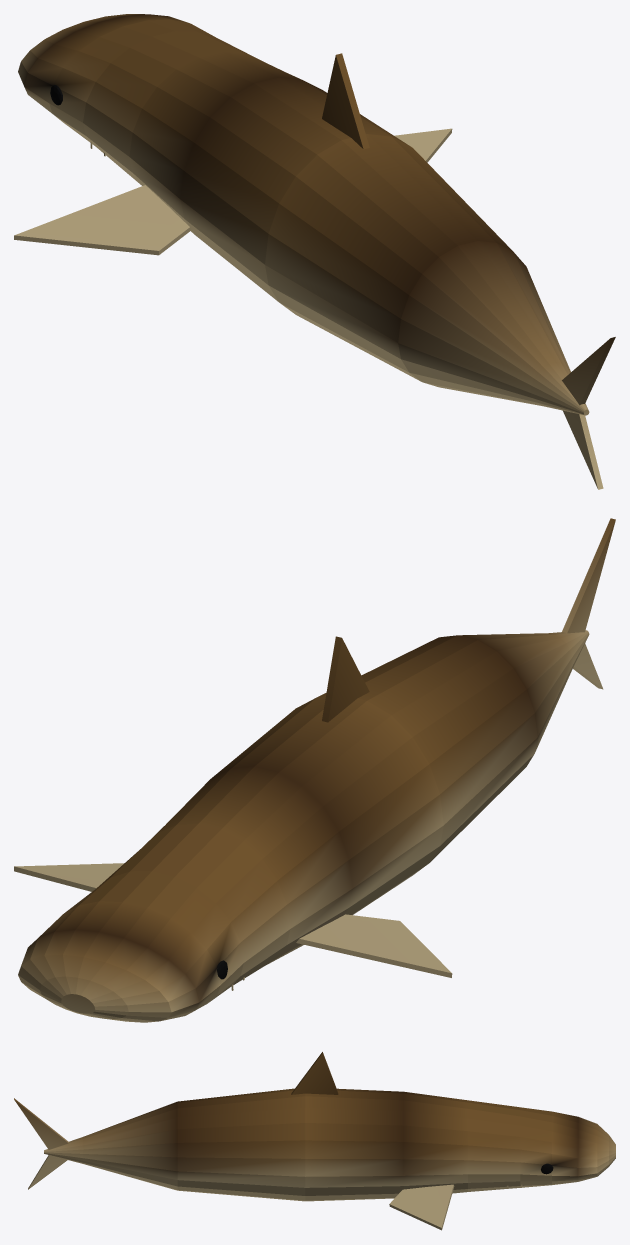
Rendered from tigershark.glb.
The picture shows the model from 3 angles, top to bottom: view 1: azimuth 30°, elevation 25°; view 2: azimuth 150°, elevation 25°; view 3: azimuth 270°, elevation 25°; orthographic projection. The views are drawn at different scales.
Visible parts, largest first — view 1: tigershark_male; view 2: tigershark_male; view 3: tigershark_male.
Boxes of the visible parts, x1,y1,x2,y2 form: tigershark_male: (14, 14, 615, 489); tigershark_male: (14, 518, 615, 1022); tigershark_male: (14, 1052, 615, 1230).
Size of the model in its own units: 4.9 by 2.71 by 10.37.
